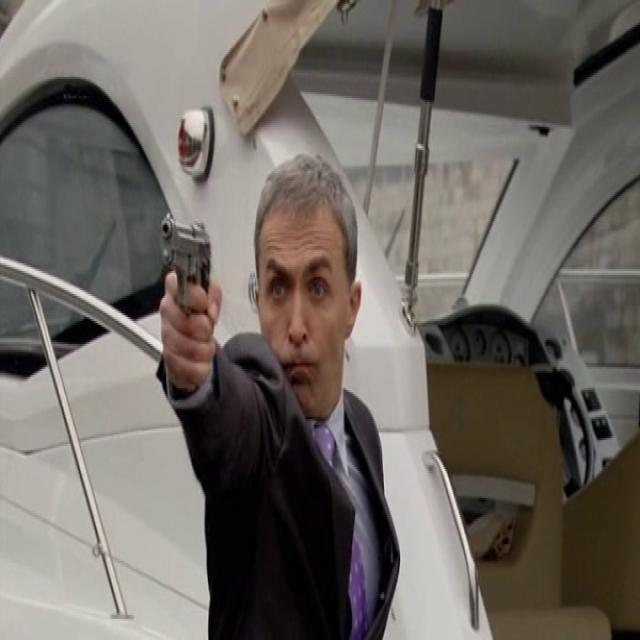weapons: (145, 191, 226, 390)
